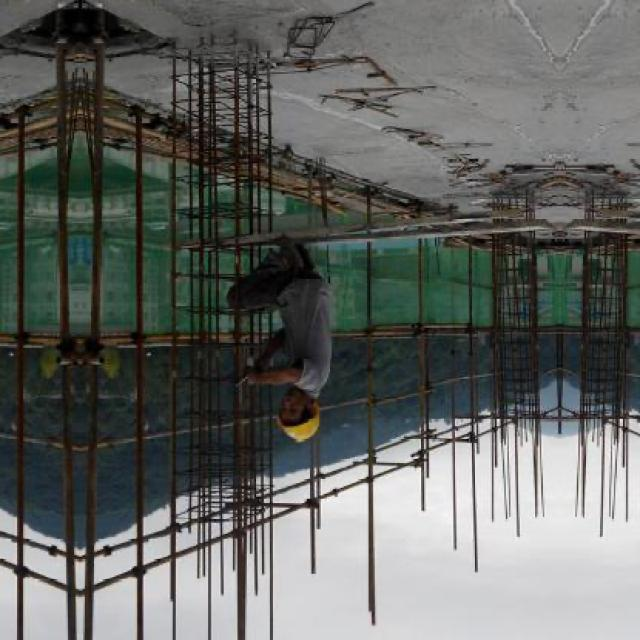con casco: (273, 359, 348, 456)
